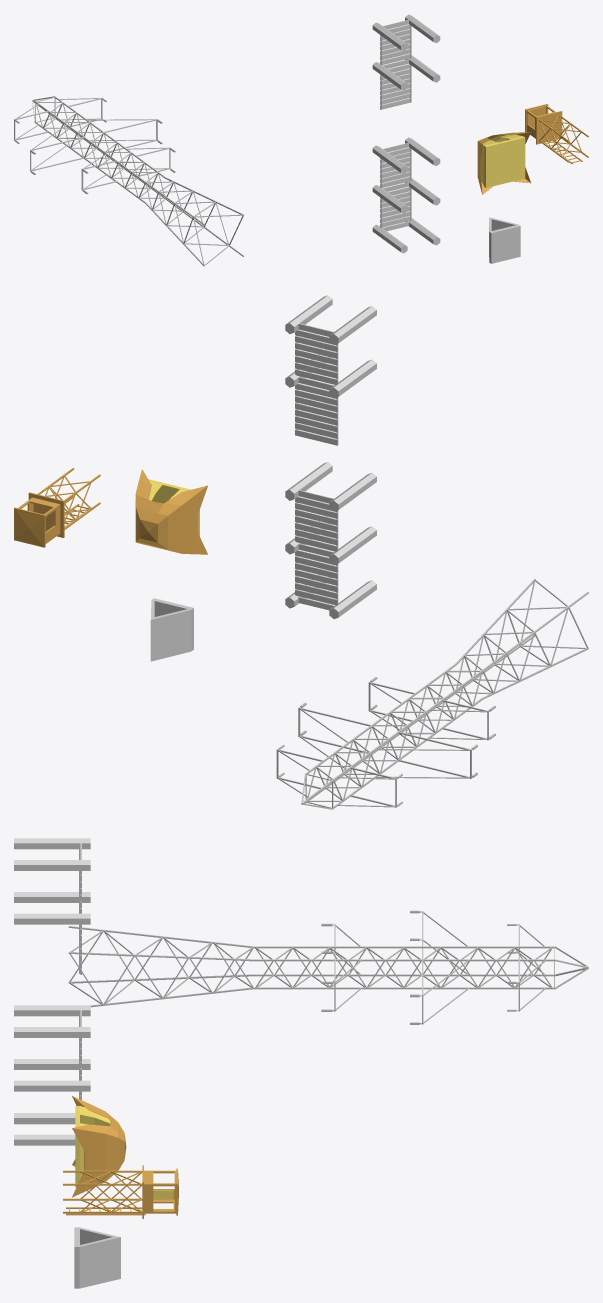
File: Watchtower.fbx
3 views of the same model, one above another, from view 1: azimuth 30°, elevation 25°; view 2: azimuth 150°, elevation 25°; view 3: azimuth 270°, elevation 25° (orthographic). The views are drawn at different scales.
Visible parts, largest first — view 1: Pylon, Dock End, Dock, Tent 2, Blind, Tent 1; view 2: Pylon, Dock End, Dock, Tent 2, Blind, Tent 1; view 3: Pylon, Dock End, Dock, Tent 2, Blind, Tent 1.
Part boxes in pixels (left/top/right/bottom): Pylon: left=14, top=96, right=244, bottom=266; Dock End: left=372, top=137, right=440, bottom=253; Dock: left=372, top=14, right=440, bottom=109; Tent 2: left=477, top=132, right=530, bottom=194; Blind: left=525, top=104, right=588, bottom=164; Tent 1: left=489, top=217, right=520, bottom=263; Pylon: left=276, top=579, right=588, bottom=809; Dock End: left=285, top=462, right=376, bottom=619; Dock: left=285, top=295, right=376, bottom=445; Tent 2: left=135, top=469, right=207, bottom=554; Blind: left=14, top=468, right=100, bottom=547; Tent 1: left=150, top=598, right=193, bottom=661; Pylon: left=68, top=910, right=588, bottom=1024; Dock End: left=14, top=1005, right=90, bottom=1145; Dock: left=14, top=838, right=90, bottom=974; Tent 2: left=72, top=1096, right=126, bottom=1197; Blind: left=63, top=1165, right=178, bottom=1218; Tent 1: left=74, top=1227, right=120, bottom=1288.
Size of the model in its own units: 4385 by 2575 by 3745.
